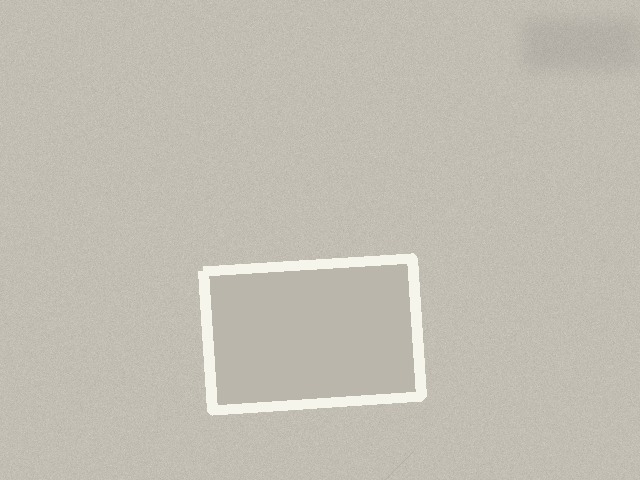parking_area: (203, 258, 421, 410)
